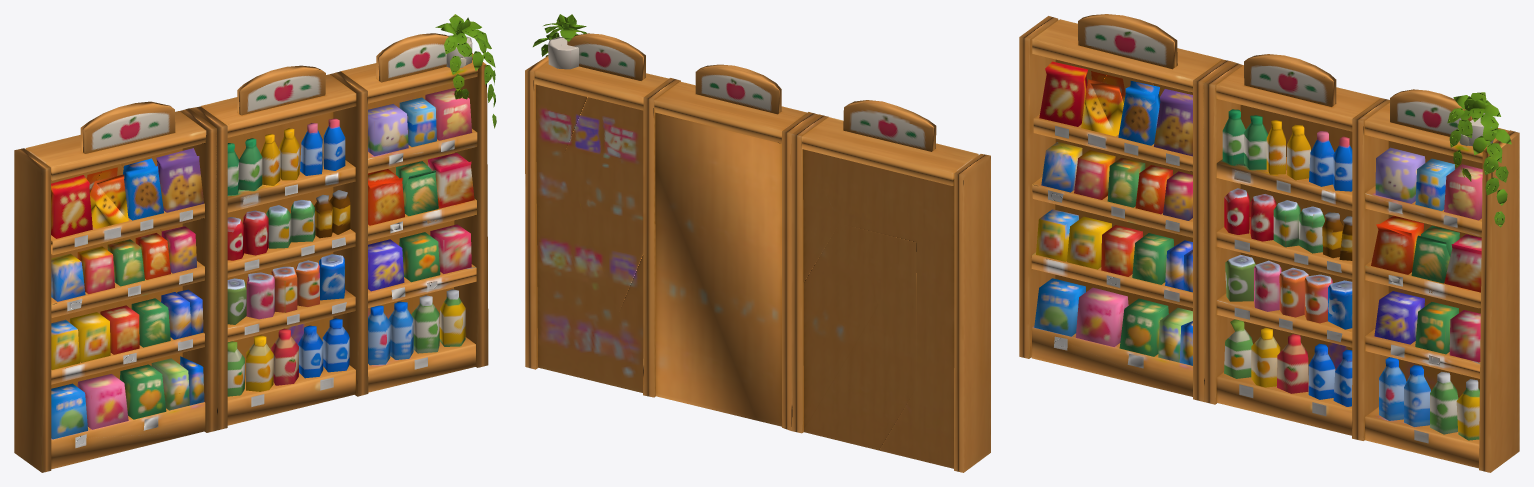
The model's file is interior_shop_shelves.glb.
The picture shows the model from 3 angles, left to right: view 1: azimuth 30°, elevation 25°; view 2: azimuth 150°, elevation 25°; view 3: azimuth 330°, elevation 25°; orthographic projection. The views are drawn at different scales.
Parts seen in each view (by area): view 1: geometry_0; view 2: geometry_0; view 3: geometry_0.
Part boxes in pixels (left/top/right/bottom): geometry_0: left=14, top=14, right=496, bottom=472; geometry_0: left=525, top=14, right=990, bottom=472; geometry_0: left=1019, top=14, right=1519, bottom=472.
Bounding box in the file's own units: 2.76 × 2 × 0.3117.
1 material, 1 textured.
